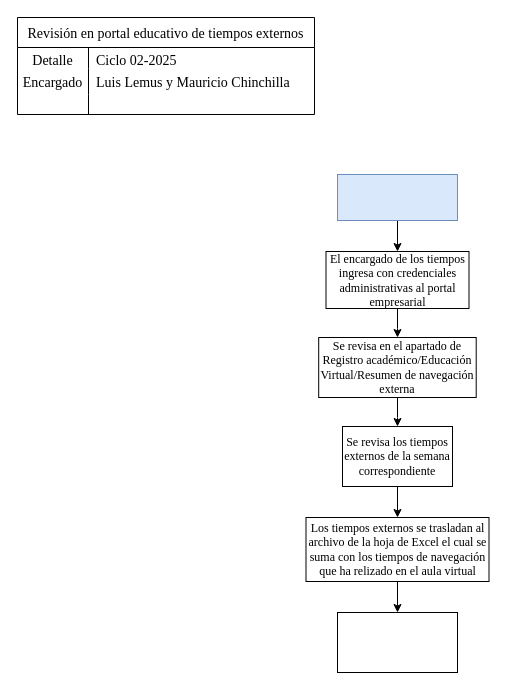
This 507x690 diagram has some shape labels left out. Each missing label, with the centre of its shape:
"El archivo acumulado semanal, se remite a la Dirección de Educación Virtual" belongs at point (397, 642).
"Revisión de los tiempos de navegación externo" belongs at point (397, 197).
